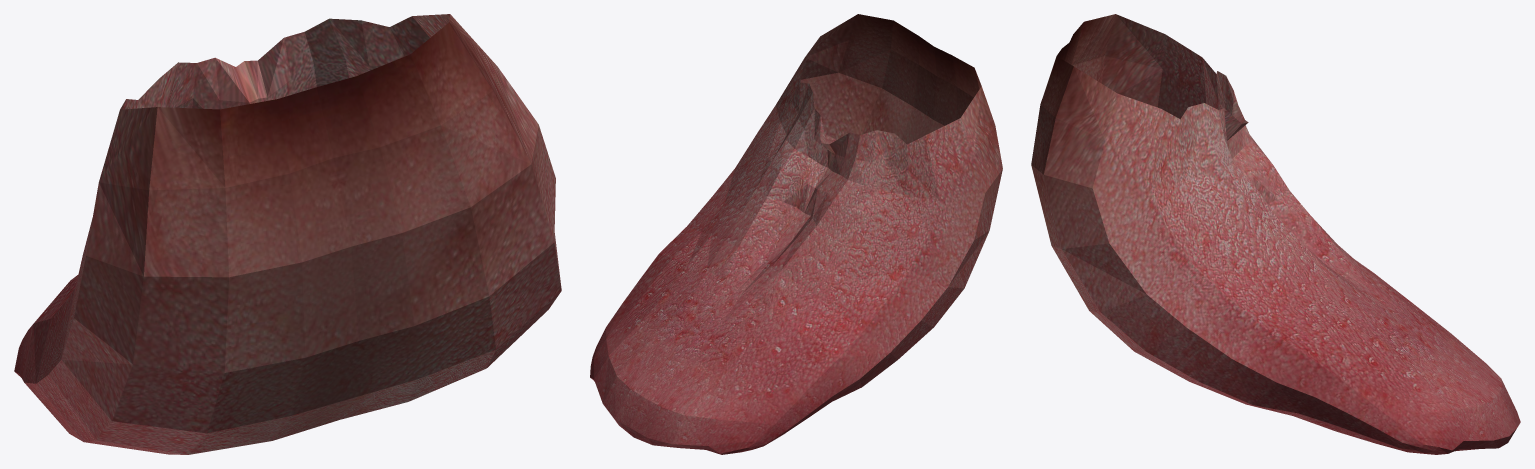
The picture shows the model from 3 angles, left to right: view 1: azimuth 30°, elevation 25°; view 2: azimuth 150°, elevation 25°; view 3: azimuth 270°, elevation 25°; orthographic projection. The views are drawn at different scales.
Size of the model in its own units: 0.0217 by 0.0221 by 0.0273.
1 material, 1 textured.
